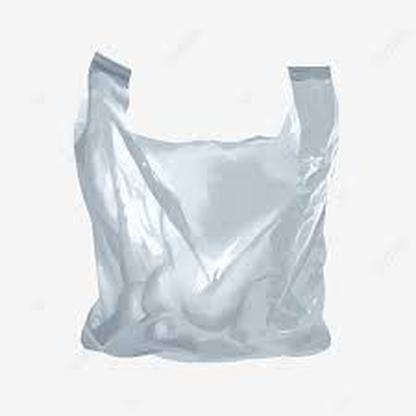plastic bag: (73, 50, 336, 359)
